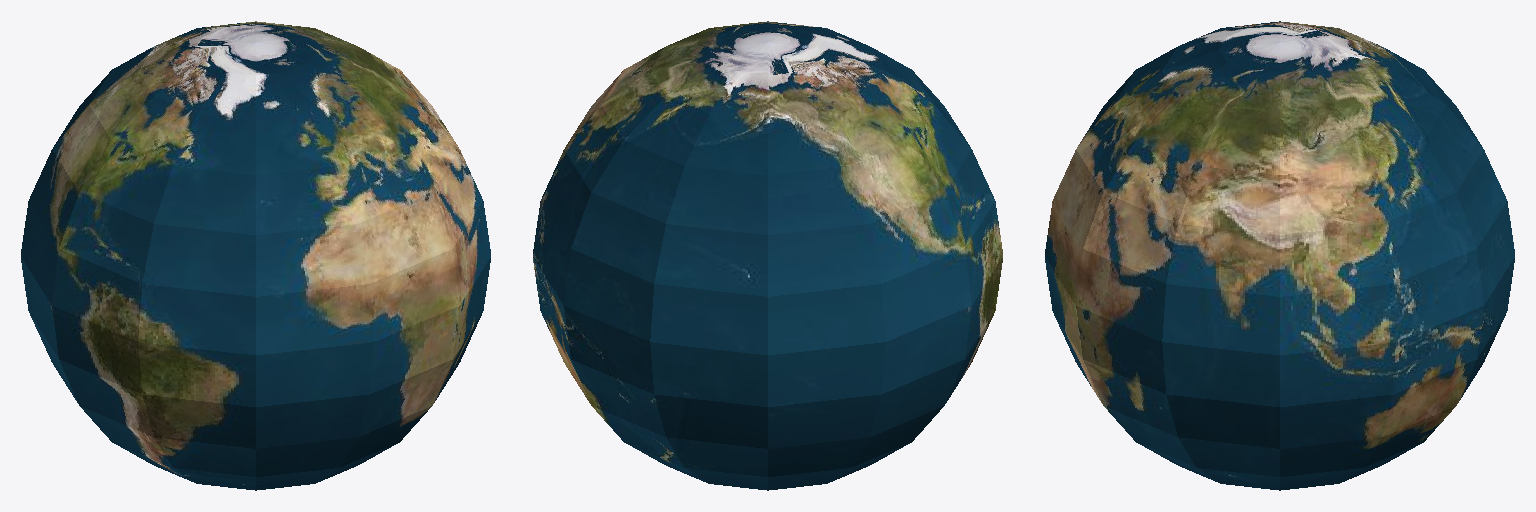
3 views of the same model, side by side, from view 1: azimuth 30°, elevation 25°; view 2: azimuth 150°, elevation 25°; view 3: azimuth 270°, elevation 25° (orthographic).
Parts seen in each view (by area): view 1: Sphere; view 2: Sphere; view 3: Sphere.
Boxes of the visible parts, <box> form: Sphere: <box>21,21,490,490</box>; Sphere: <box>533,21,1002,490</box>; Sphere: <box>1045,21,1514,490</box>.
Size of the model in its own units: 1 by 1 by 1.
Materials: 1 (1 with a texture image).